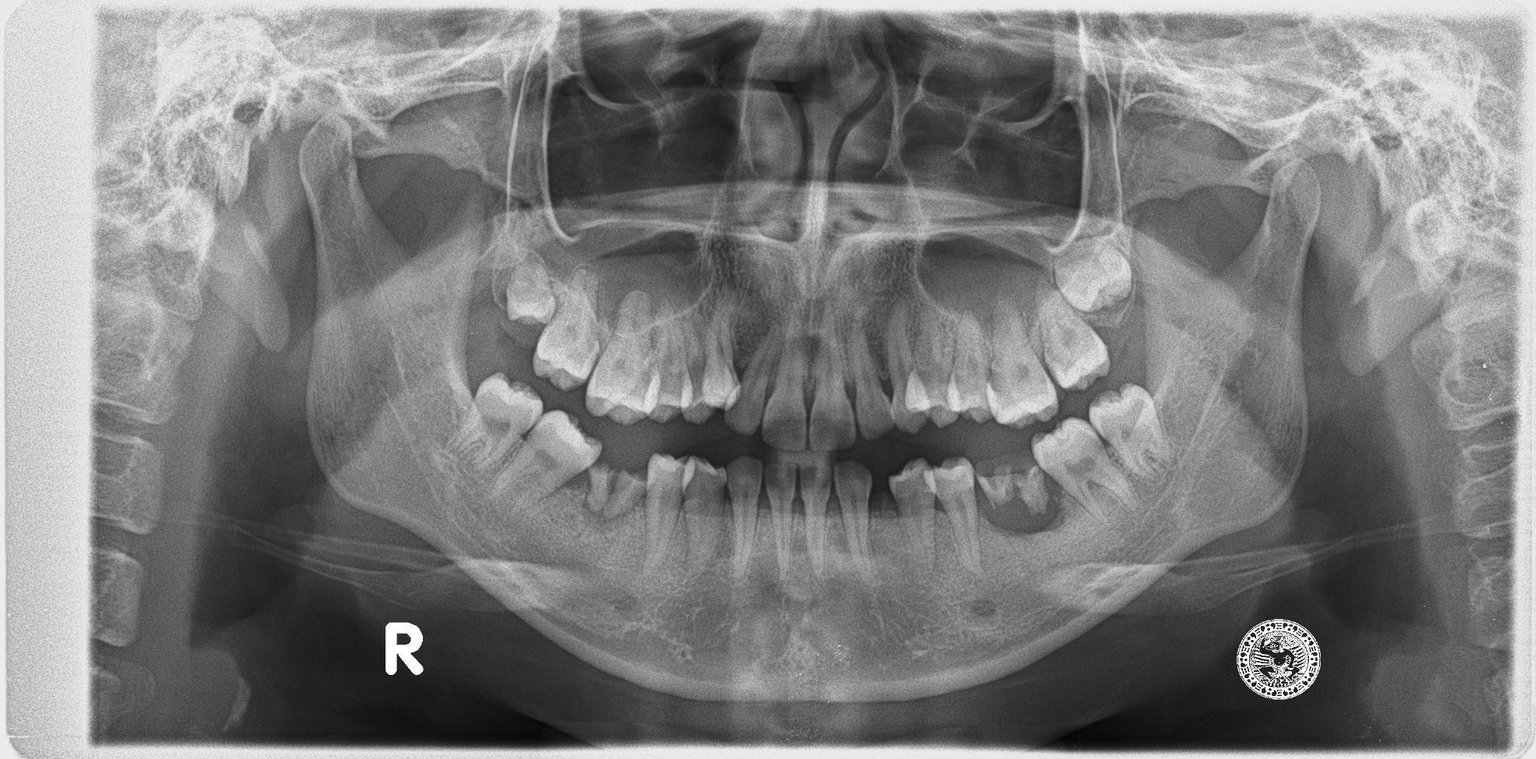Individual Tooth: (1029, 422, 1142, 522), (985, 298, 1056, 431), (586, 292, 657, 423), (1091, 378, 1179, 481), (1034, 288, 1112, 395), (534, 269, 602, 390), (921, 457, 986, 580), (642, 300, 706, 423), (905, 309, 966, 434), (944, 301, 1000, 430), (842, 303, 895, 439), (725, 330, 786, 435), (806, 327, 857, 450), (884, 294, 929, 433), (676, 456, 727, 572), (759, 335, 809, 450), (1050, 242, 1130, 312), (645, 454, 693, 565), (888, 459, 934, 568), (525, 411, 599, 474), (700, 302, 740, 408), (726, 457, 762, 572), (833, 462, 871, 570), (474, 374, 543, 433), (764, 450, 795, 579), (800, 451, 832, 575), (504, 254, 557, 325), (586, 470, 645, 519), (973, 458, 1015, 506), (1014, 465, 1053, 514)
